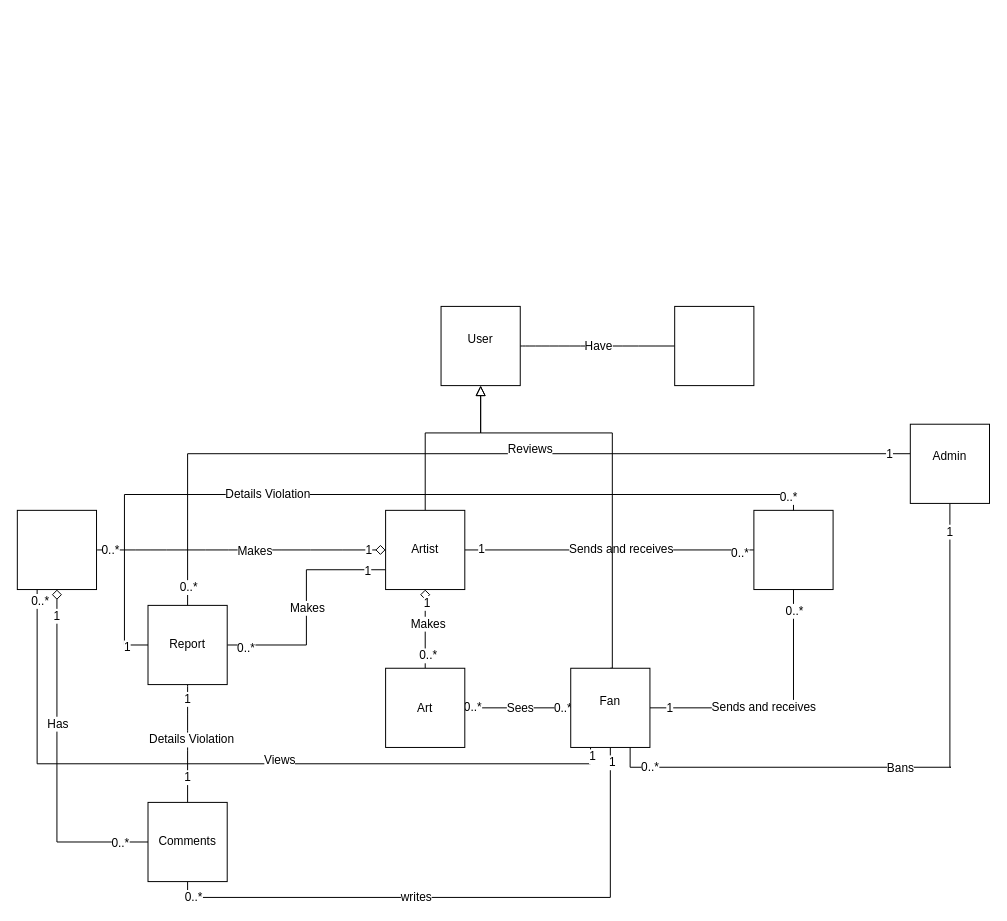
Image size: 1007x921. Some labels were removed from this diagram. Each missing label, with the box of its shape:
Message: (753, 509, 833, 590)
Post: (16, 509, 97, 590)
Profile: (674, 305, 754, 386)
